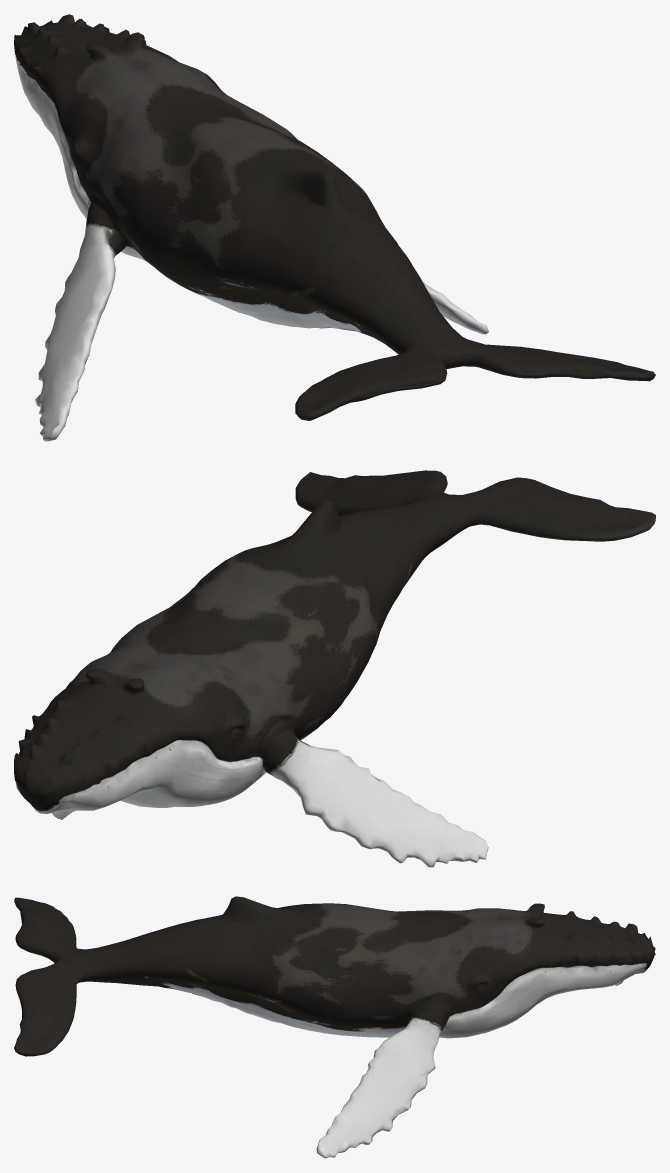
Rendered from humpback.glb.
3 renders of one model, top to bottom at view 1: azimuth 30°, elevation 25°; view 2: azimuth 150°, elevation 25°; view 3: azimuth 270°, elevation 25°, orthographic. The views are drawn at different scales.
Visible parts, largest first — view 1: tripo_node_80208f35-f3bd-4396-aefd-46d68d2c5687; view 2: tripo_node_80208f35-f3bd-4396-aefd-46d68d2c5687; view 3: tripo_node_80208f35-f3bd-4396-aefd-46d68d2c5687.
Part boxes in pixels (x1,y1,x2,y2): tripo_node_80208f35-f3bd-4396-aefd-46d68d2c5687: [14, 14, 655, 441]; tripo_node_80208f35-f3bd-4396-aefd-46d68d2c5687: [14, 470, 655, 867]; tripo_node_80208f35-f3bd-4396-aefd-46d68d2c5687: [14, 896, 655, 1158].
Size of the model in its own units: 0.5676 by 0.3188 by 1.
Materials: 1 (1 with a texture image).
